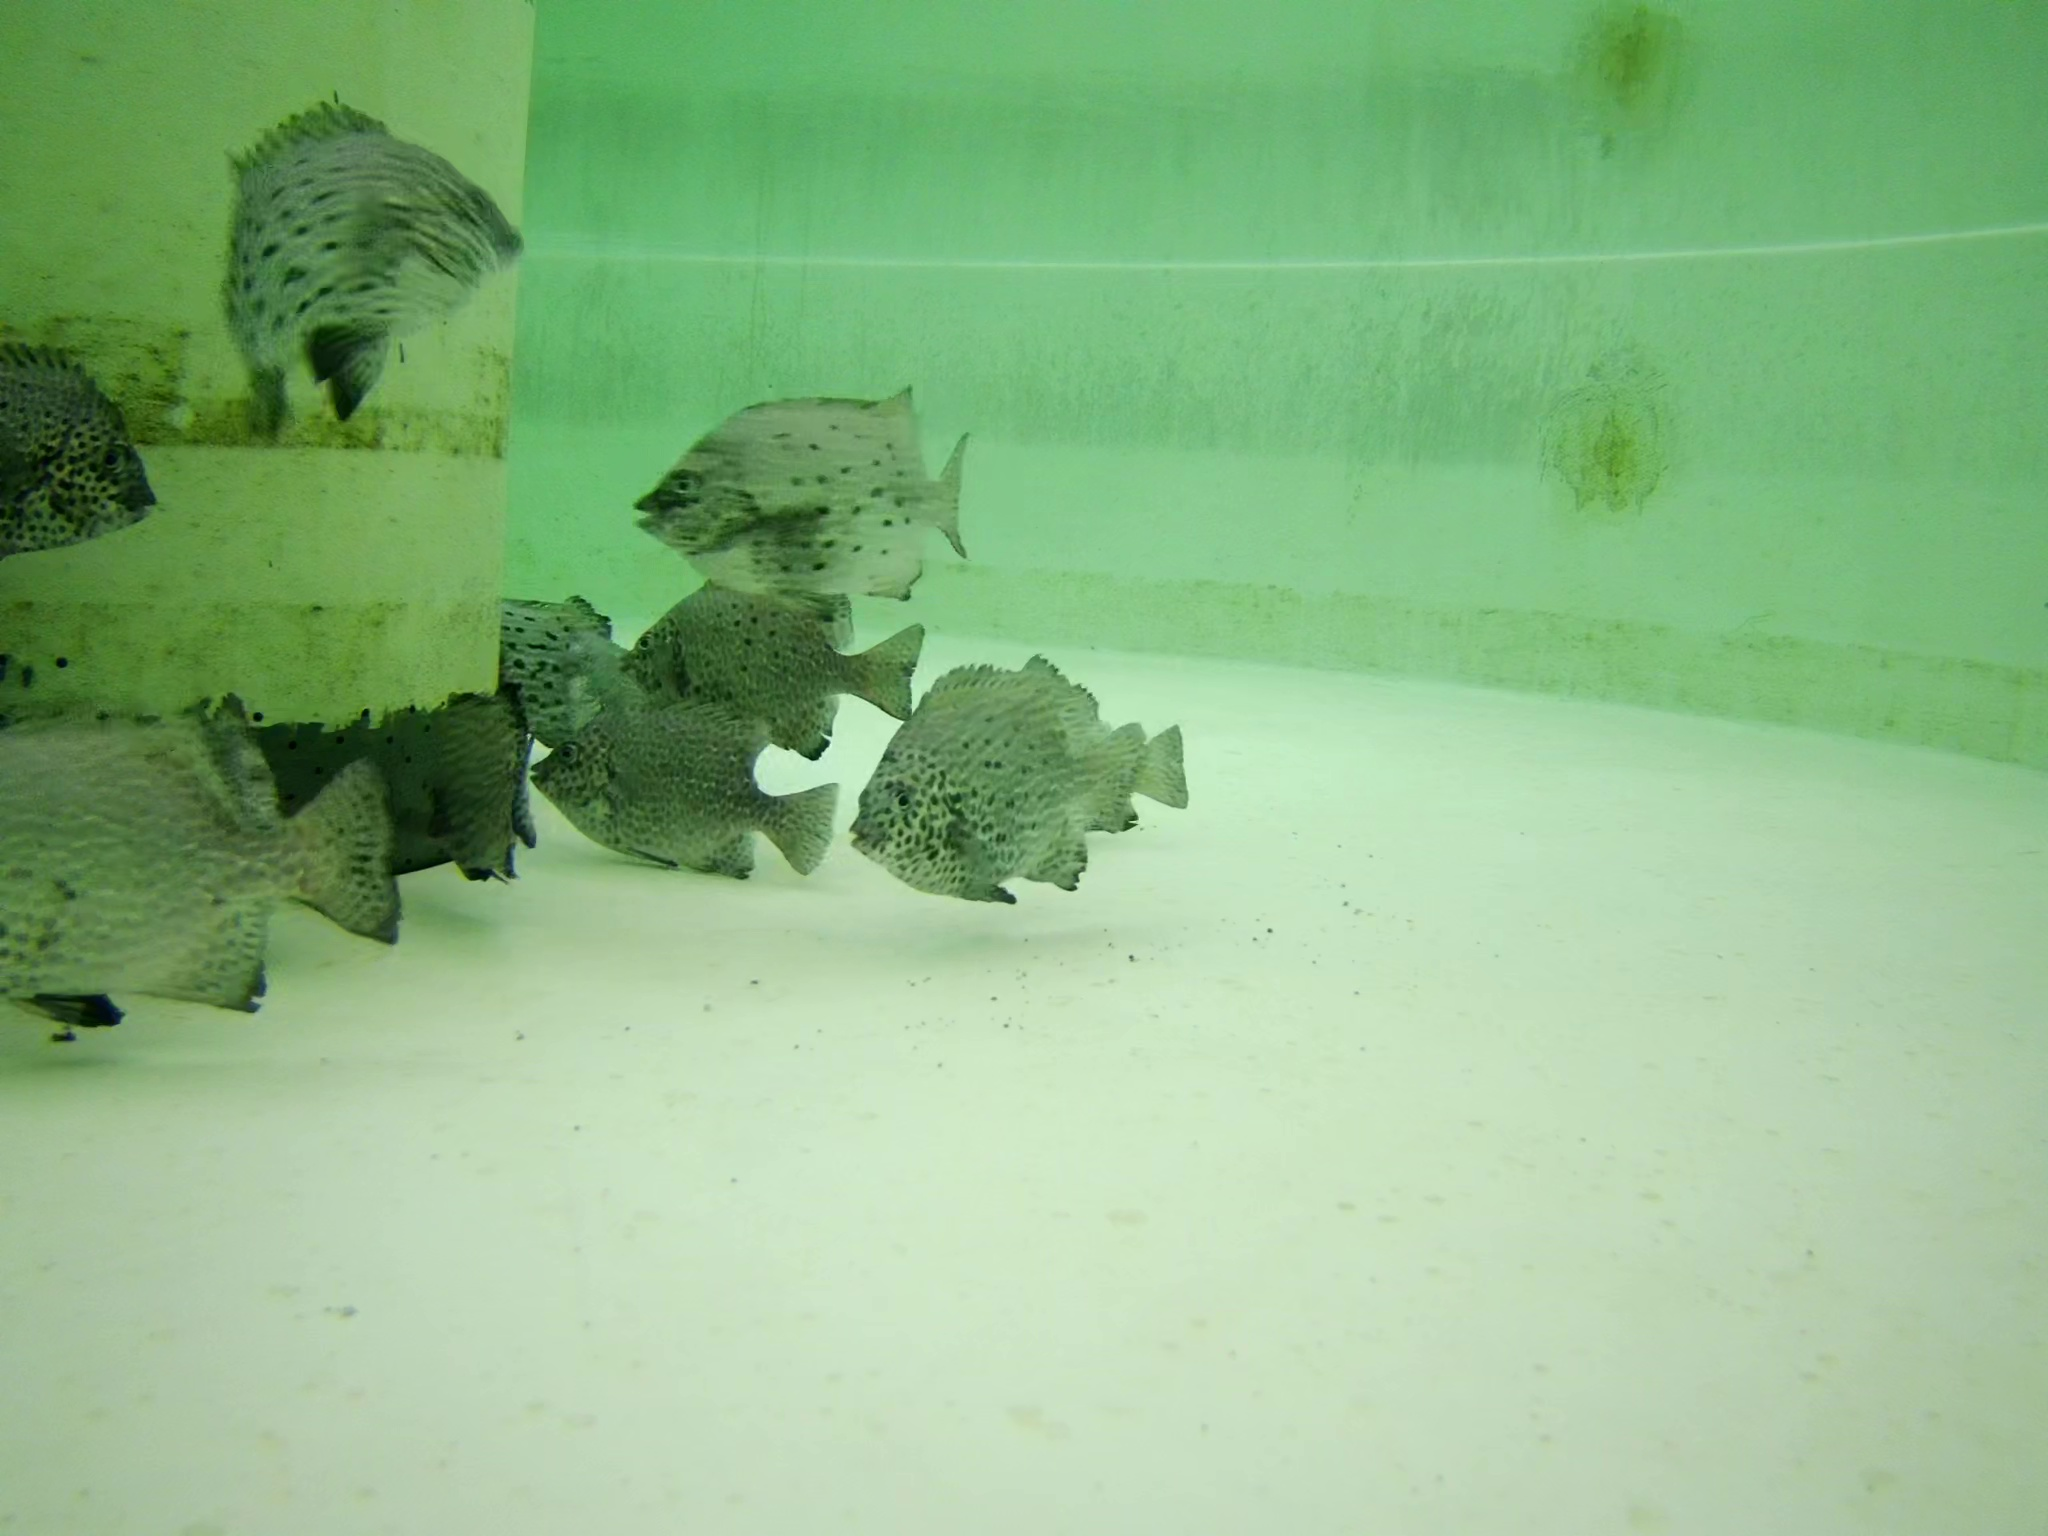fish: (2, 702, 410, 1031), (202, 100, 529, 408), (848, 652, 1193, 907), (635, 378, 979, 610), (537, 695, 842, 886), (619, 579, 922, 744), (360, 691, 539, 894), (10, 329, 158, 550), (505, 599, 656, 745)
